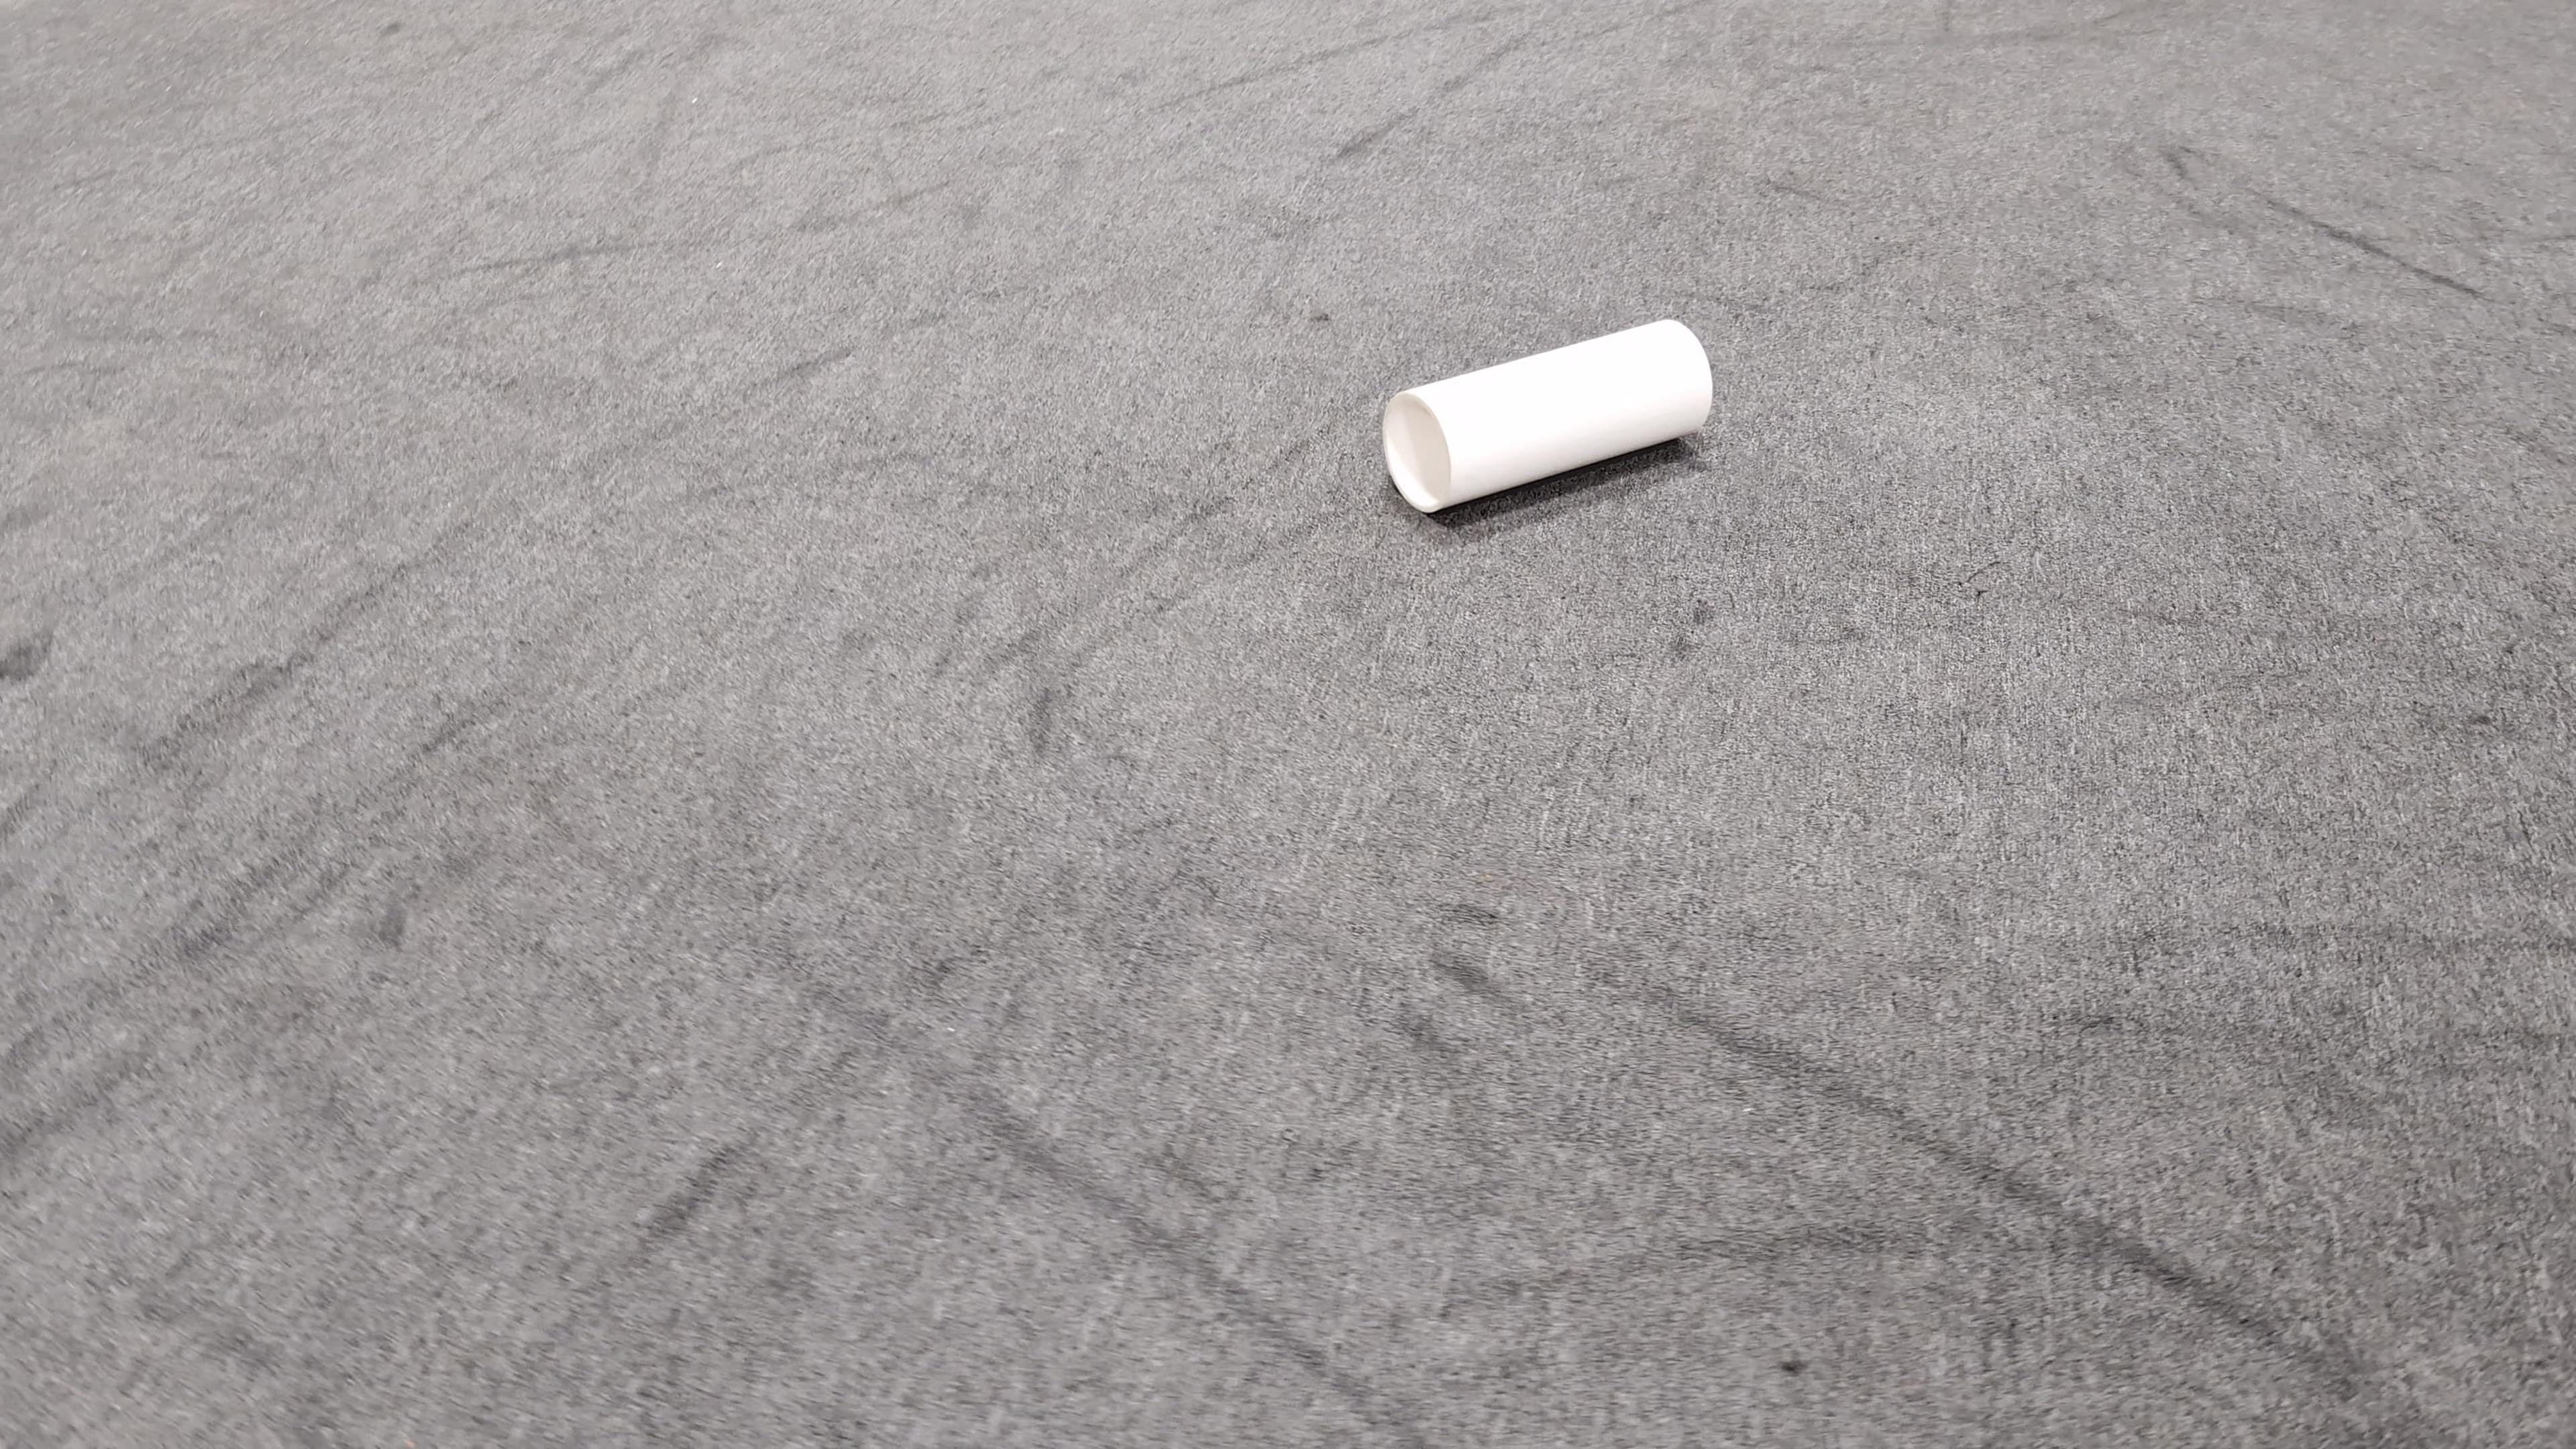coral: (1384, 318, 1713, 511)
